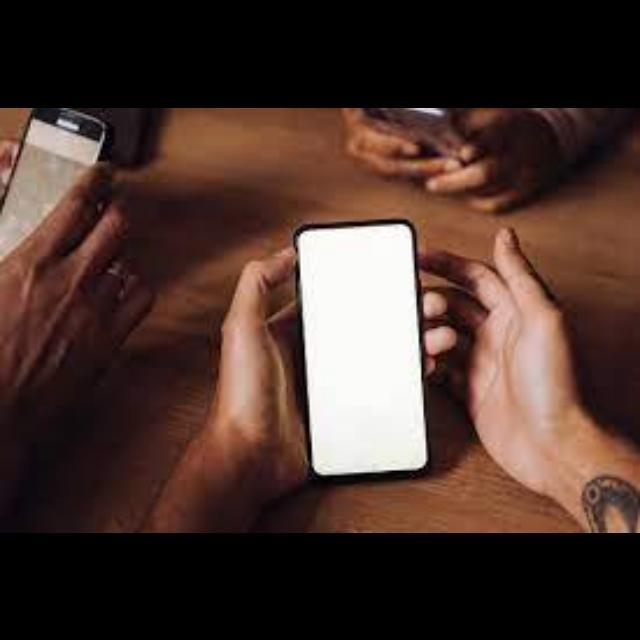Phone: (296, 228, 434, 480), (0, 114, 111, 268)
